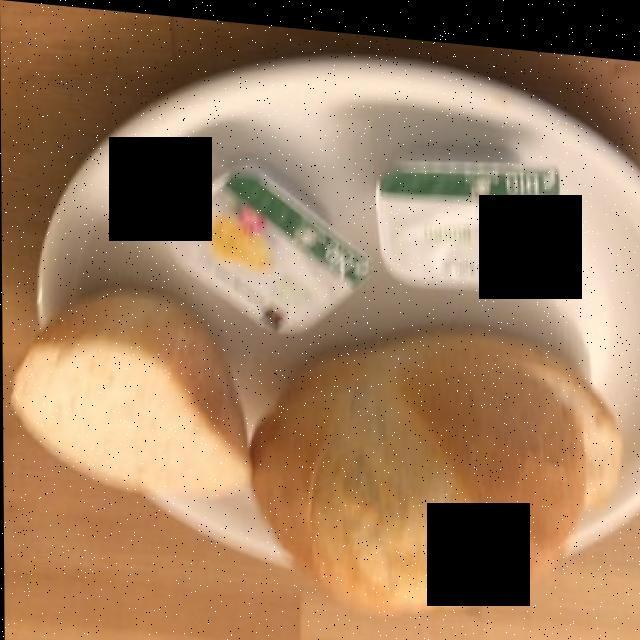bread: (24, 237, 608, 607)
butter: (162, 134, 567, 335)
